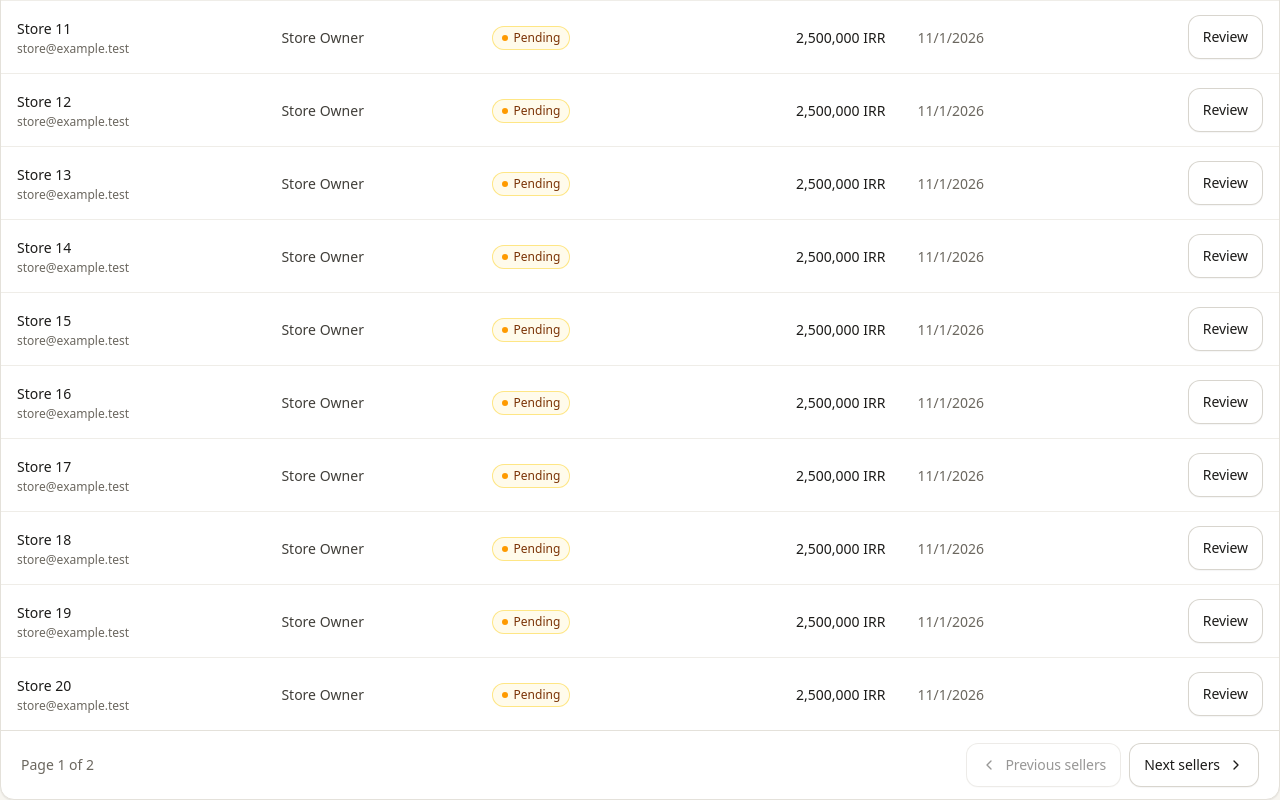
admin seller pages › retries a failed later page and retains previous navigation
The width and height of the screenshot is (1280, 800).
(page scrolled)
Click the button "Next sellers": click(1194, 765) x1=1129 y1=743 x2=1259 y2=787
(page scrolled)
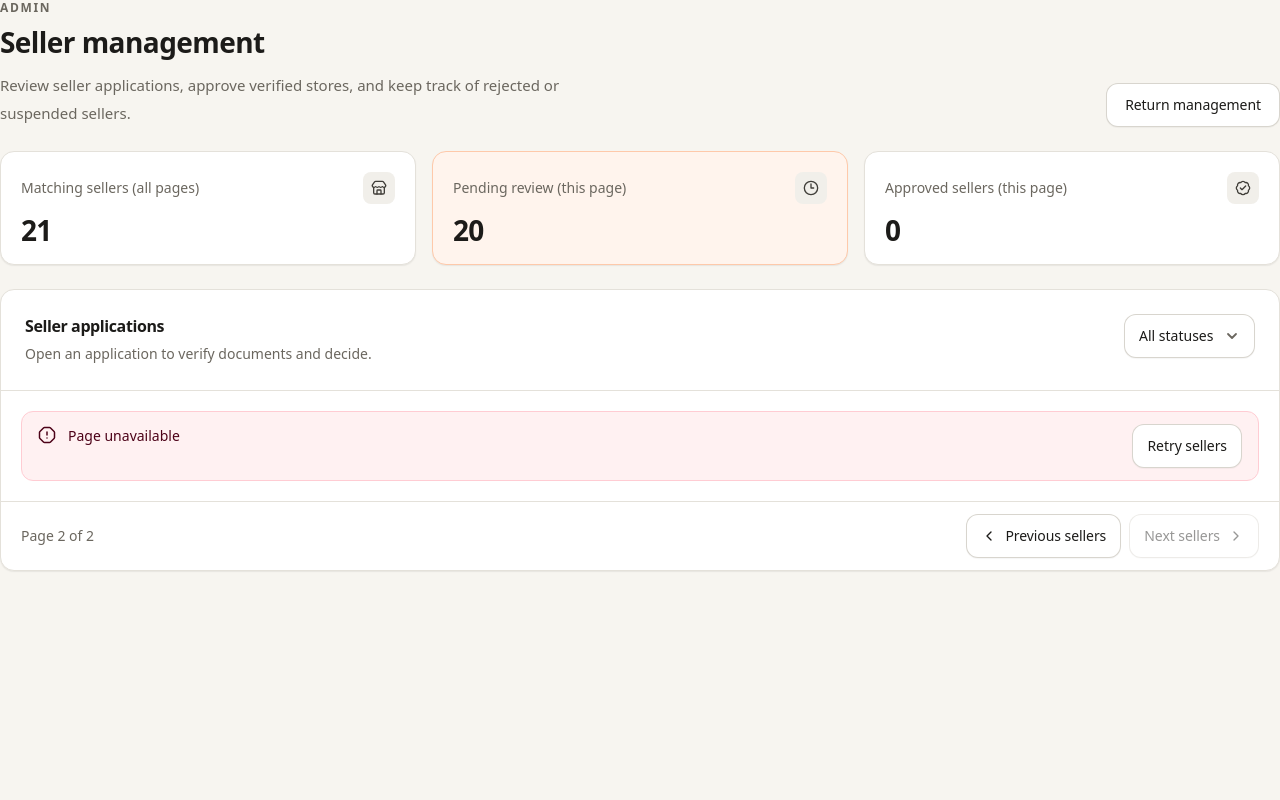
Now the text "Page unavailable" is shown, box x1=68 y1=426 x2=180 y2=445
Now the button "Previous sellers" is enabled, box x1=966 y1=514 x2=1121 y2=558
Click the button "Retry sellers": click(1187, 446) x1=1132 y1=424 x2=1242 y2=468
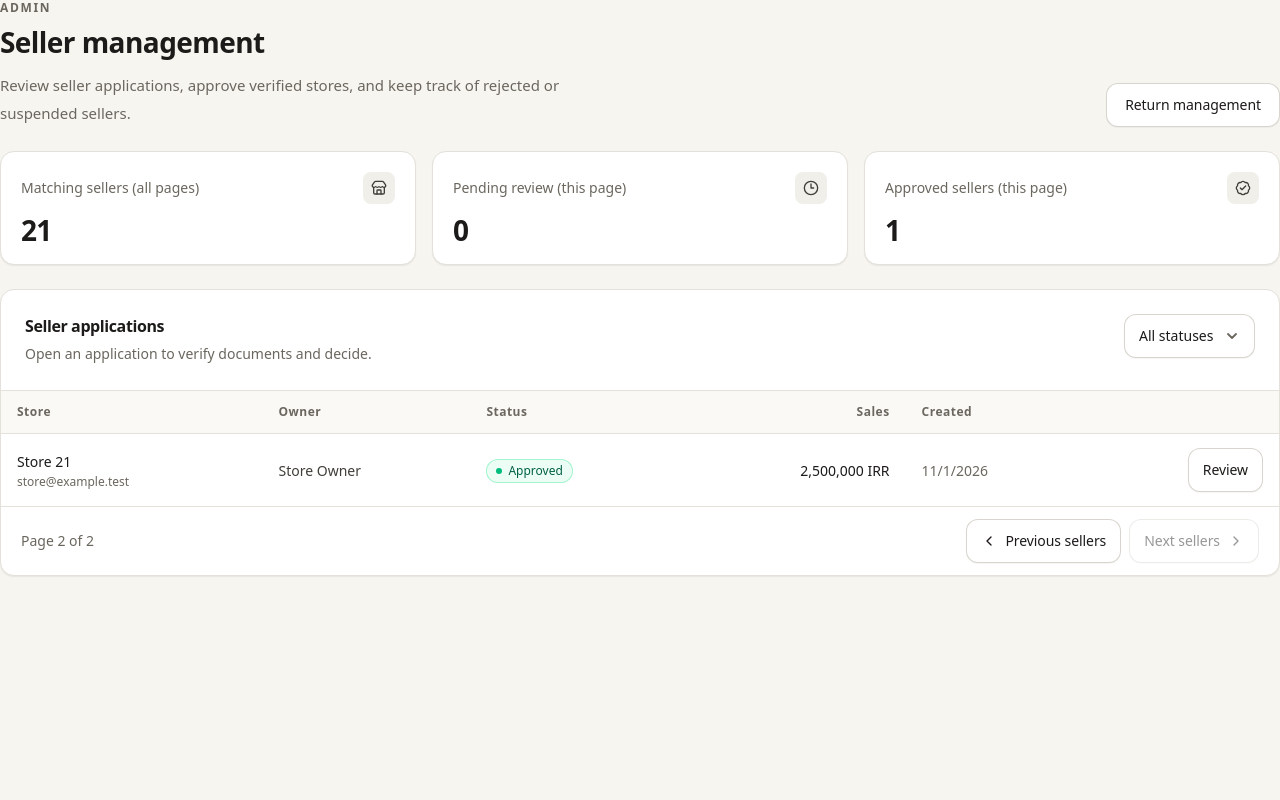
Now the link "Store 21" is shown, box x1=17 y1=452 x2=71 y2=471
